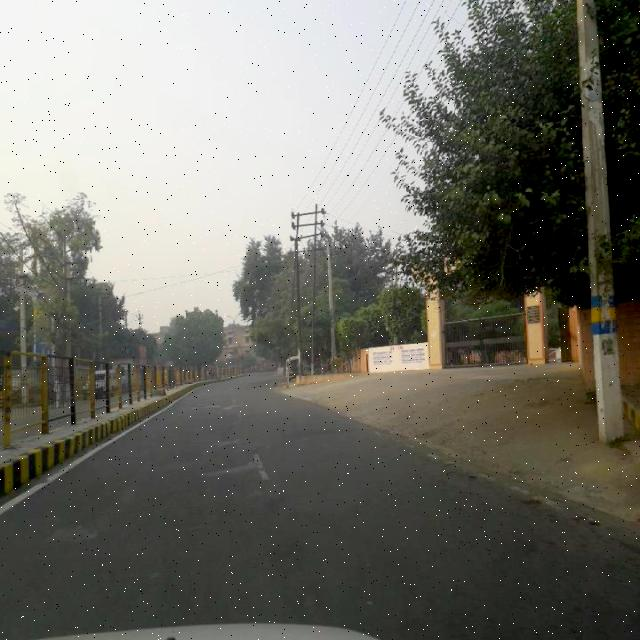D40: (37, 514, 103, 548), (193, 455, 259, 489)
D44: (402, 439, 578, 520), (245, 441, 280, 480)
